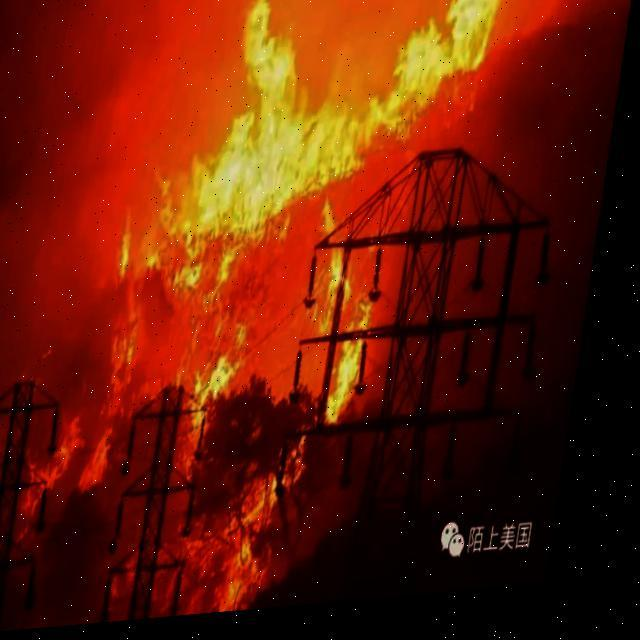Fire: (41, 0, 514, 624)
